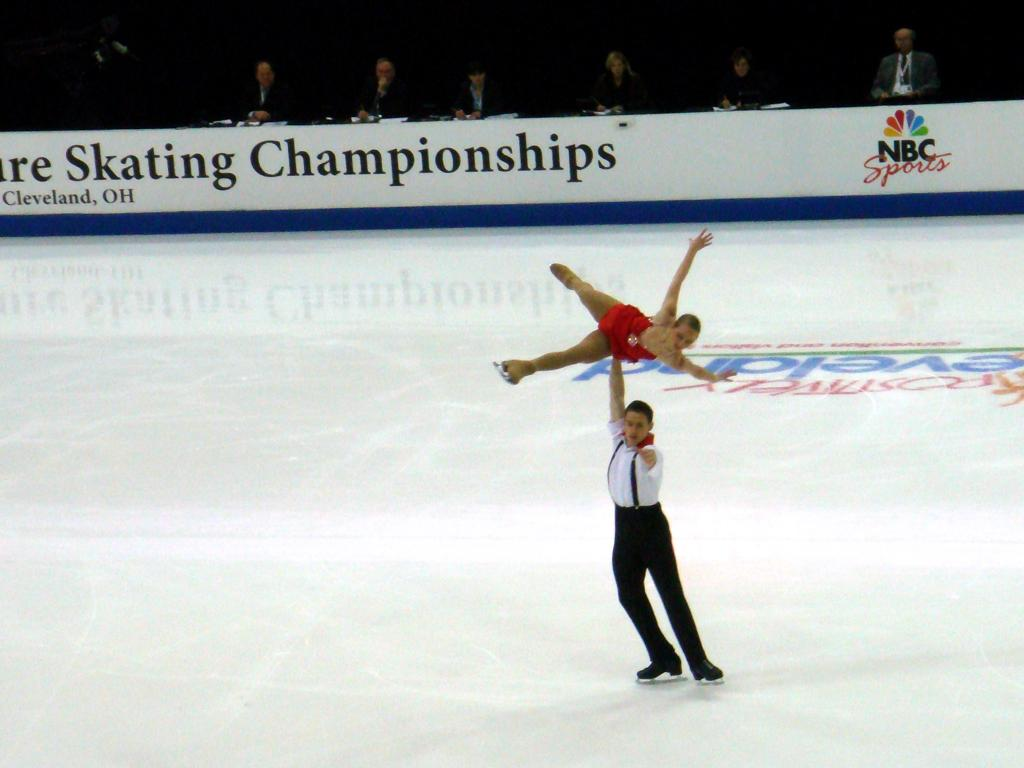face: (624, 411, 648, 446), (672, 325, 698, 351), (256, 63, 273, 84), (377, 62, 394, 82), (895, 31, 911, 51), (734, 58, 748, 77), (610, 58, 623, 76), (471, 71, 483, 85)
